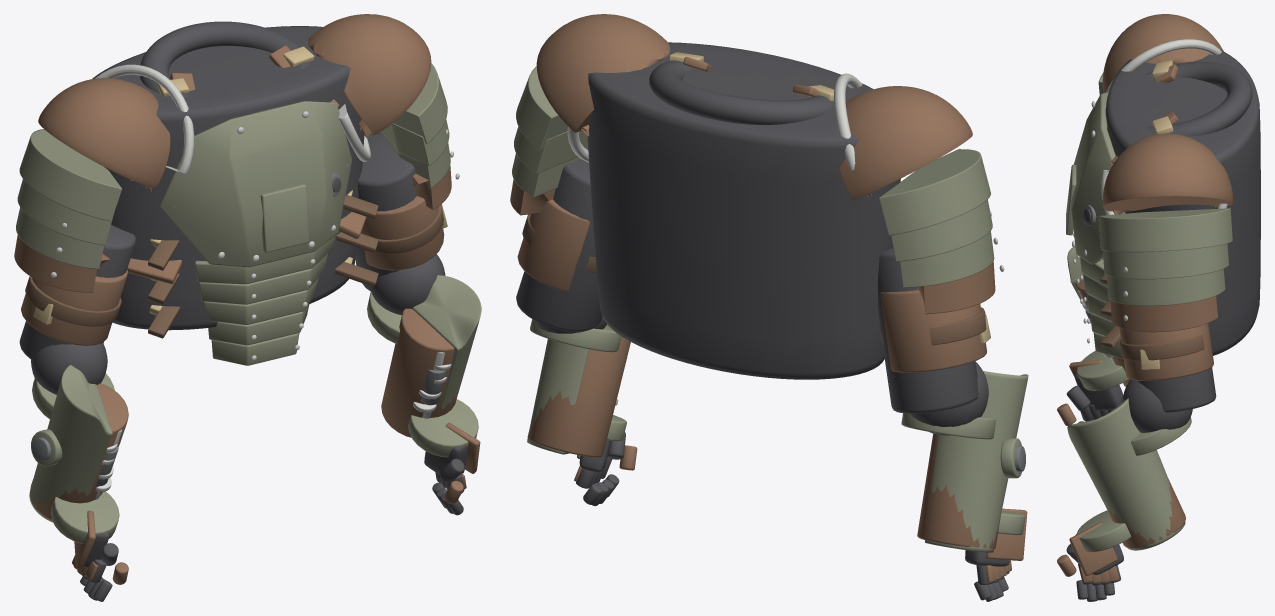
3 renders of one model, left to right at view 1: azimuth 30°, elevation 25°; view 2: azimuth 150°, elevation 25°; view 3: azimuth 270°, elevation 25°, orthographic. The views are drawn at different scales.
Visible parts, largest first — view 1: Undersuit_Torso, ChestPlate_Main, Pauldron_TopDome_R, Pauldron_TopDome_L, Gauntlet_OuterShell_R, Pauldron_Lame_R_1, Forearm_LeatherBase_L, Undersuit_Collar, Gauntlet_OuterShell_L, UpperArm_Sleeve_L, Bicep_LeatherGuard_R, Bicep_LeatherGuard_L (+30 smaller); view 2: Undersuit_Torso, Pauldron_TopDome_R, Pauldron_TopDome_L, Gauntlet_OuterShell_R, Forearm_LeatherBase_L, Pauldron_Lame_R_1, UpperArm_Sleeve_L, Bicep_LeatherGuard_R, Undersuit_Collar, UpperArm_Sleeve_R, Bicep_LeatherGuard_L, Pauldron_Lame_R_2 (+14 smaller); view 3: Undersuit_Torso, Gauntlet_OuterShell_L, Pauldron_TopDome_L, Pauldron_Lame_L_1, ChestPlate_Main, Pauldron_TopDome_R, Pauldron_Lame_L_2, Undersuit_Collar, Pauldron_Lame_L_3, Bicep_LeatherGuard_L, Pauldron_Lame_L_4, UpperArm_Sleeve_L (+19 smaller).
Part boxes in pixels (<box>): Undersuit_Torso: <box>92,26,364,330</box>; ChestPlate_Main: <box>159,101,351,267</box>; Pauldron_TopDome_R: <box>38,78,170,192</box>; Pauldron_TopDome_L: <box>307,14,431,137</box>; Gauntlet_OuterShell_R: <box>29,364,112,522</box>; Pauldron_Lame_R_1: <box>19,129,121,221</box>; Forearm_LeatherBase_L: <box>381,308,456,437</box>; Undersuit_Collar: <box>140,21,309,112</box>; Gauntlet_OuterShell_L: <box>412,275,481,408</box>; UpperArm_Sleeve_L: <box>355,133,416,291</box>; Bicep_LeatherGuard_R: <box>21,270,128,345</box>; Bicep_LeatherGuard_L: <box>361,196,444,270</box>; Undersuit_Torso: <box>587,42,900,379</box>; Pauldron_TopDome_R: <box>835,86,972,200</box>; Pauldron_TopDome_L: <box>536,14,670,136</box>; Gauntlet_OuterShell_R: <box>925,371,1028,552</box>; Forearm_LeatherBase_L: <box>527,324,630,457</box>; Pauldron_Lame_R_1: <box>879,149,990,235</box>; UpperArm_Sleeve_L: <box>516,159,602,331</box>; Bicep_LeatherGuard_R: <box>880,290,986,372</box>; Undersuit_Collar: <box>649,58,834,124</box>; UpperArm_Sleeve_R: <box>877,248,978,413</box>; Bicep_LeatherGuard_L: <box>517,199,589,291</box>; Pauldron_Lame_R_2: <box>891,199,992,261</box>; Undersuit_Torso: <box>1106,50,1260,355</box>; Gauntlet_OuterShell_L: <box>1067,398,1185,550</box>; Pauldron_TopDome_L: <box>1102,133,1233,214</box>; Pauldron_Lame_L_1: <box>1098,208,1232,252</box>; ChestPlate_Main: <box>1071,91,1125,264</box>; Pauldron_TopDome_R: <box>1102,14,1223,92</box>; Pauldron_Lame_L_2: <box>1102,243,1228,279</box>; Undersuit_Collar: <box>1105,62,1252,136</box>; Pauldron_Lame_L_3: <box>1106,269,1225,305</box>; Bicep_LeatherGuard_L: <box>1119,323,1213,380</box>; Pauldron_Lame_L_4: <box>1110,296,1218,332</box>; UpperArm_Sleeve_L: <box>1137,367,1216,412</box>.
Bounding box in the file's own units: 0.8853 × 0.9357 × 0.3908.
